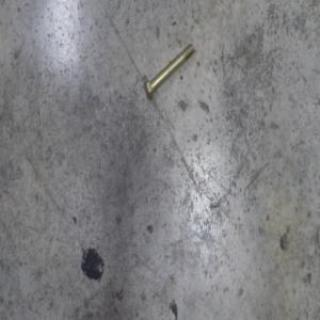Bolttrack_idkeyframe: (141, 42, 194, 101)
